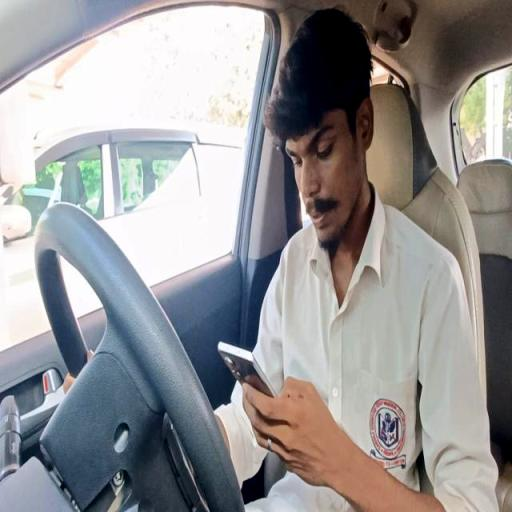Texting_on_phone: (216, 9, 497, 512)
